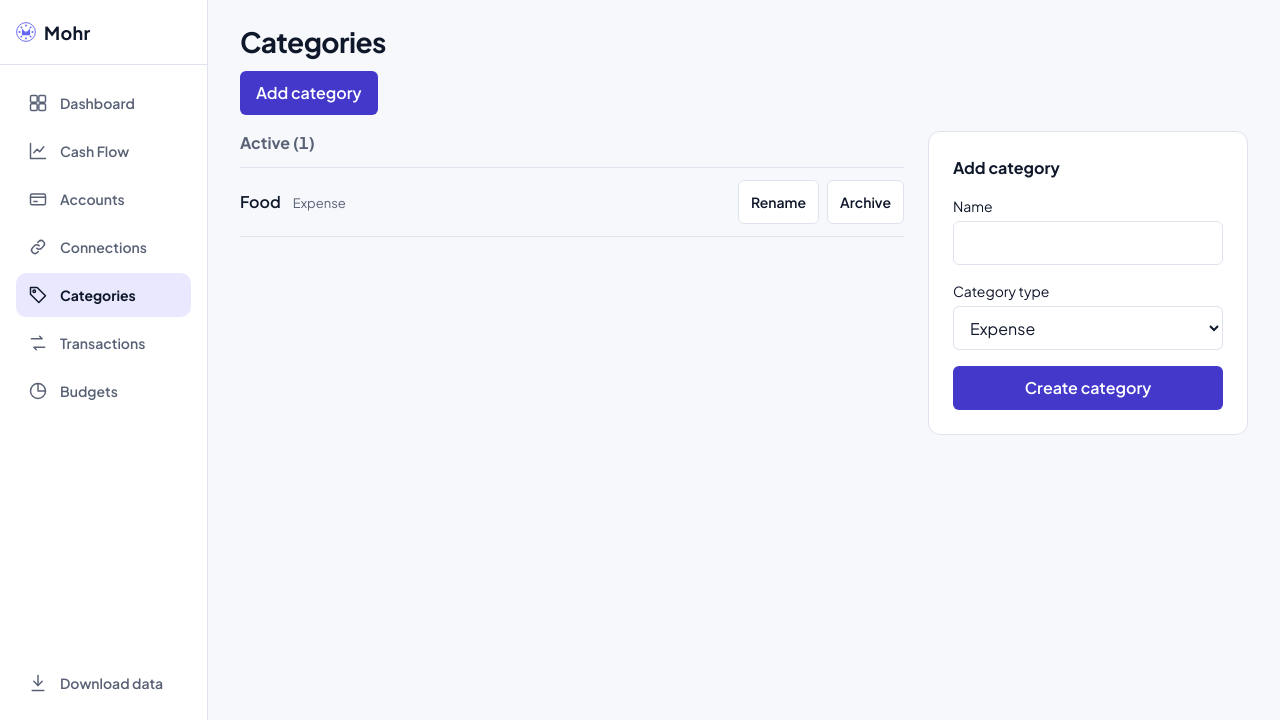
Test: category creation form › appends a created category after existing ones without refetching or reordering
Check: the heading "Food" is shown, box [240,190,281,214]
Type "Rent" into the field labelled "Name" at (1088, 243), box [953,221,1223,265]
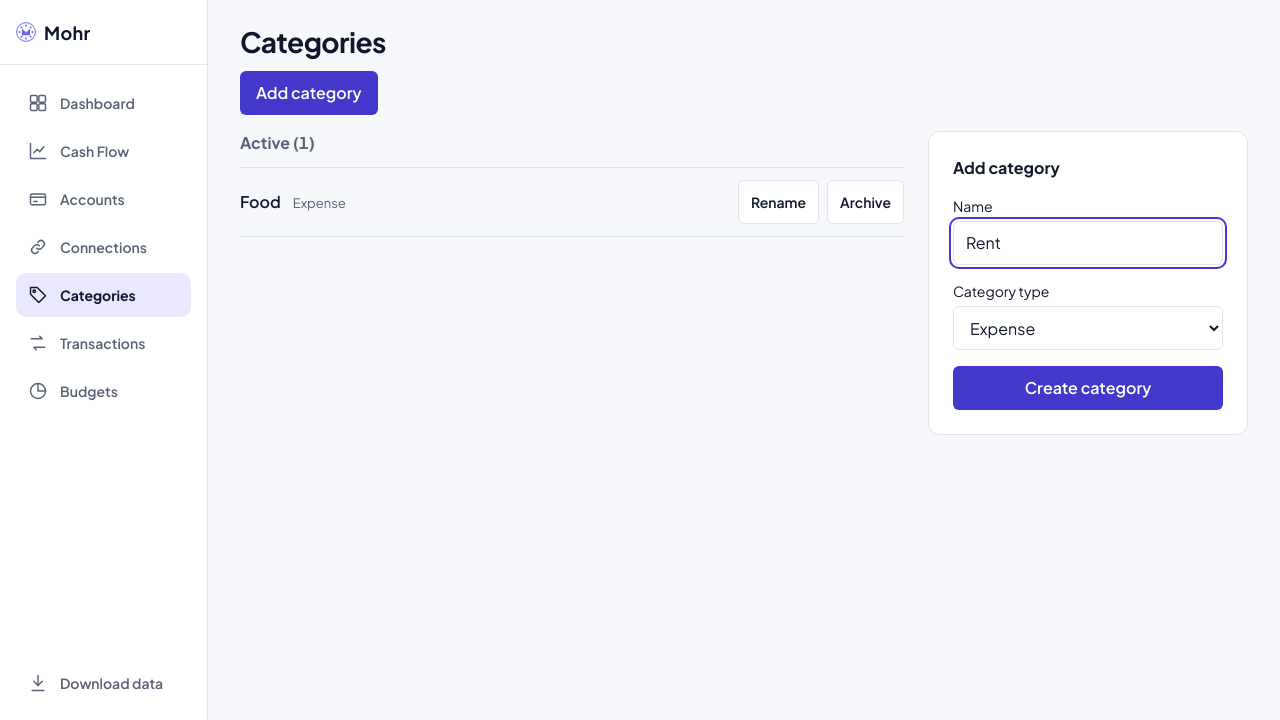
Select "Expense" in the dropdown labelled "Category type" at (1088, 328), box [953,306,1223,350]
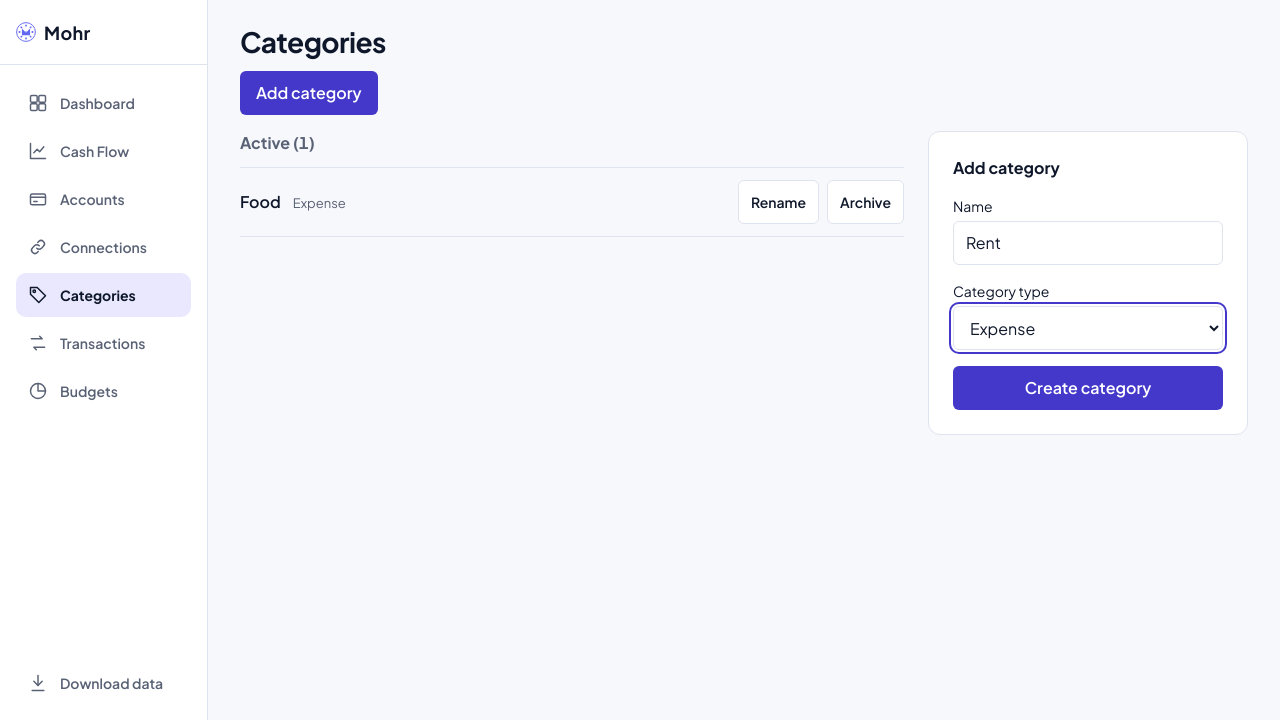
Click the button "Create category" at (1088, 388), box [953,366,1223,410]
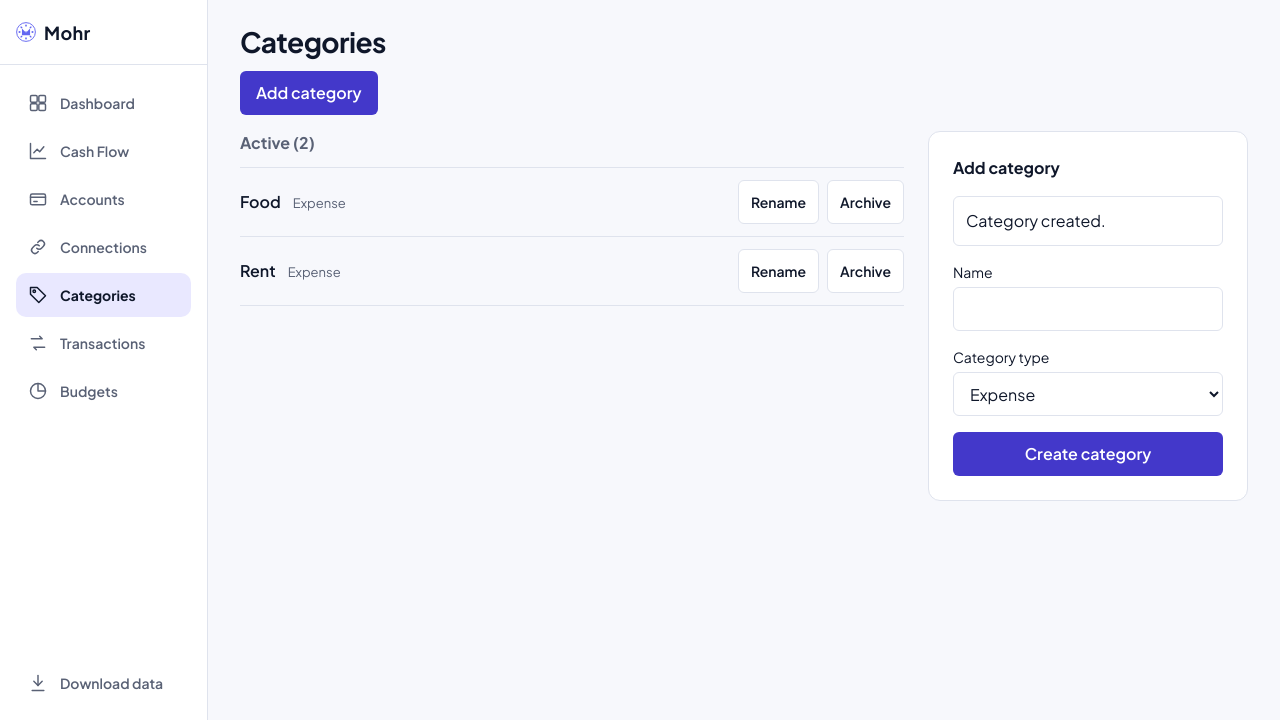
Check: the text "Category created." is shown, box [953,196,1223,246]
